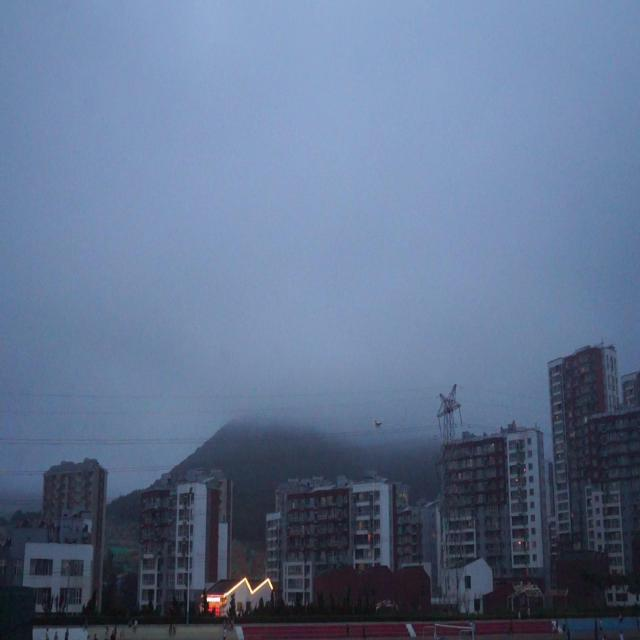drone: (372, 415, 383, 433)
